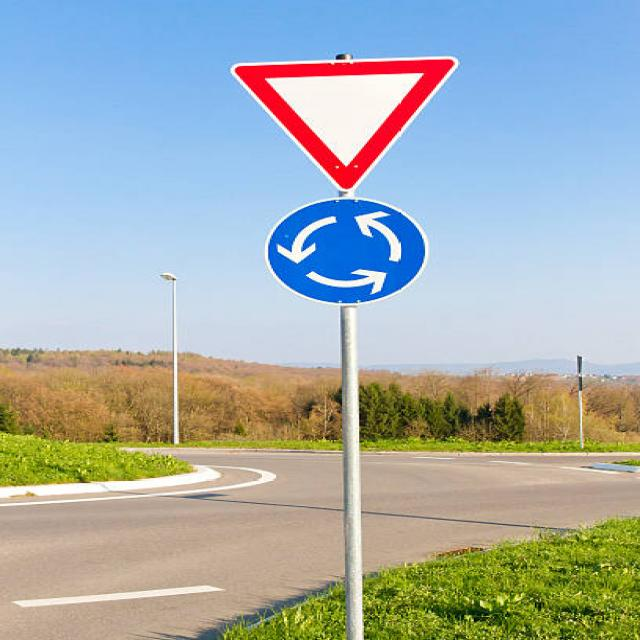round_about: (264, 194, 432, 306)
